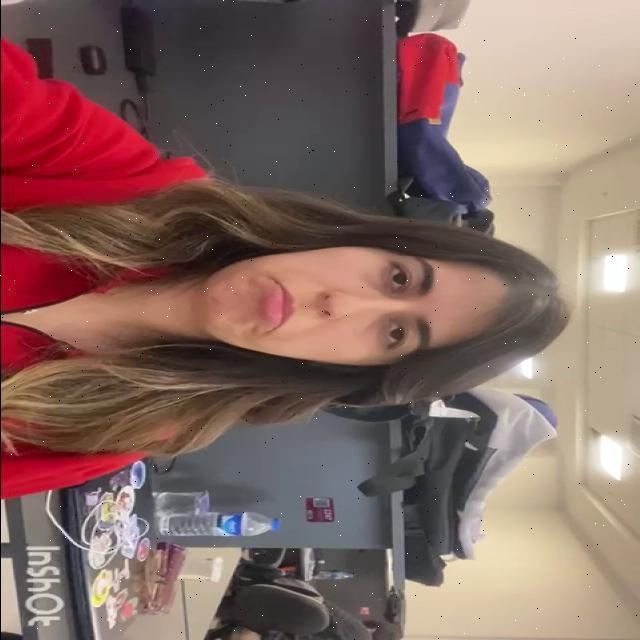sad: (193, 246, 505, 368)
